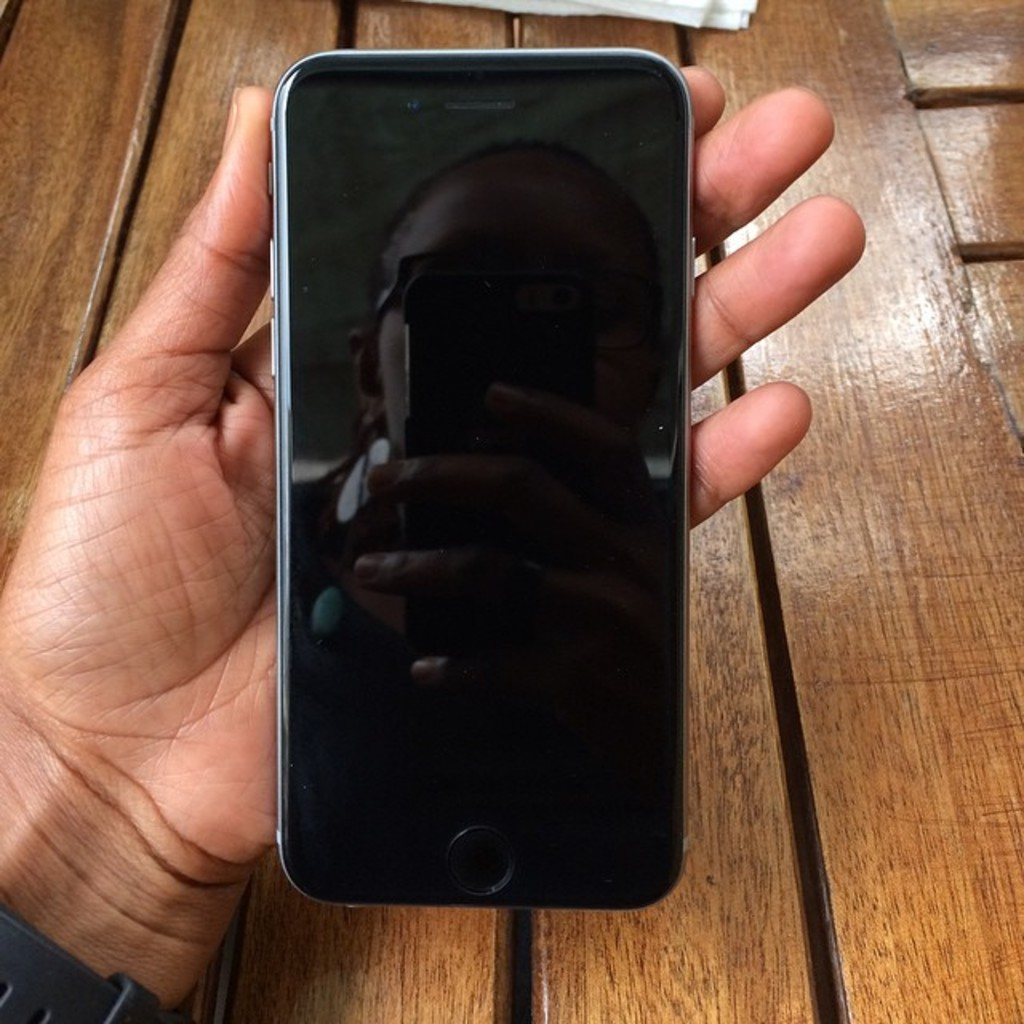mobile phone: (268, 46, 699, 910)
